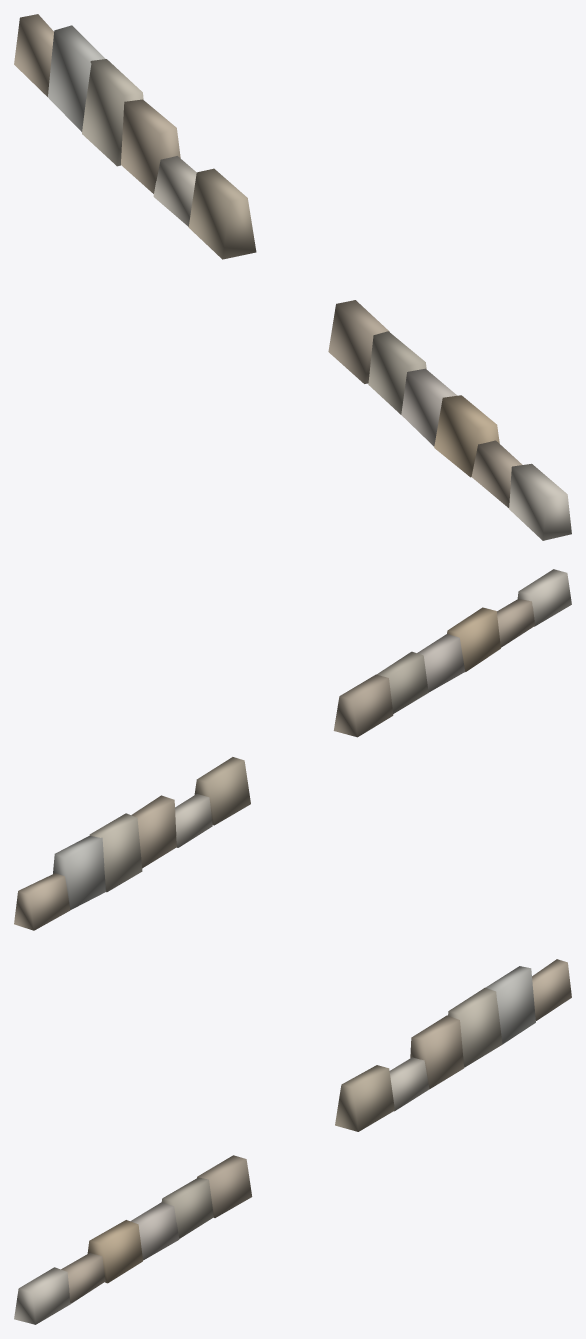
Rendered from farm_-31_-31_far.glb.
3 views of the same model, one above another, from view 1: azimuth 30°, elevation 25°; view 2: azimuth 150°, elevation 25°; view 3: azimuth 330°, elevation 25° (orthographic). The views are drawn at different scales.
Parts seen in each view (by area): view 1: geometry_0; view 2: geometry_0; view 3: geometry_0.
Part boxes in pixels (<box>): geometry_0: <box>14,14,571,540</box>; geometry_0: <box>14,569,571,930</box>; geometry_0: <box>14,959,571,1324</box>.
Size of the model in its own units: 2.51 by 1.49 by 22.69.
